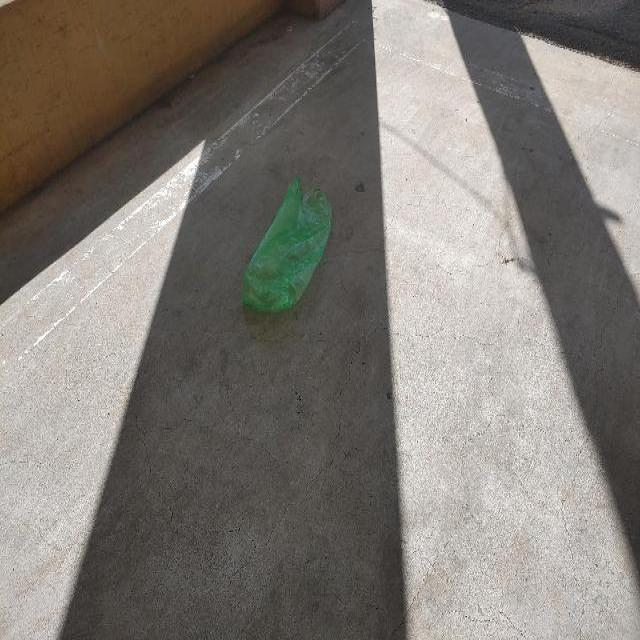plastic bag: (239, 178, 332, 320)
